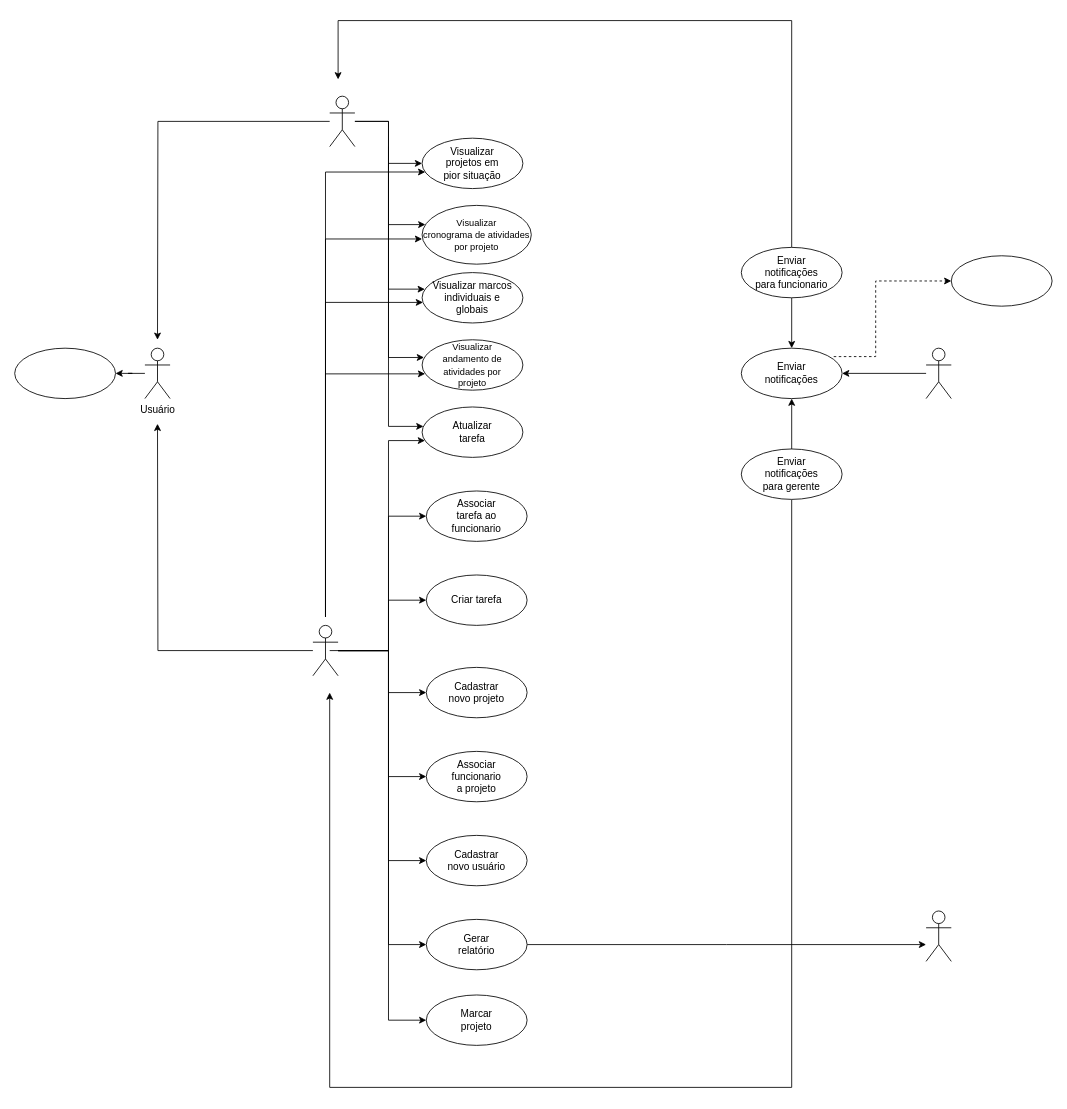
The diagram is 1067 pixels wide and 1109 high, and some of its shapes have lost their labels. The shapes that lost their labels are listed below. From the top down, each one's centre as x and y in pixels, then its label:
(x=342, y=121): Funcionário
(x=1001, y=280): Verificar pendências por categoria
(x=65, y=373): Logar no sistema
(x=938, y=373): Sistema de Notificações
(x=325, y=650): Gerente
(x=938, y=935): Sistema de Relatórios
